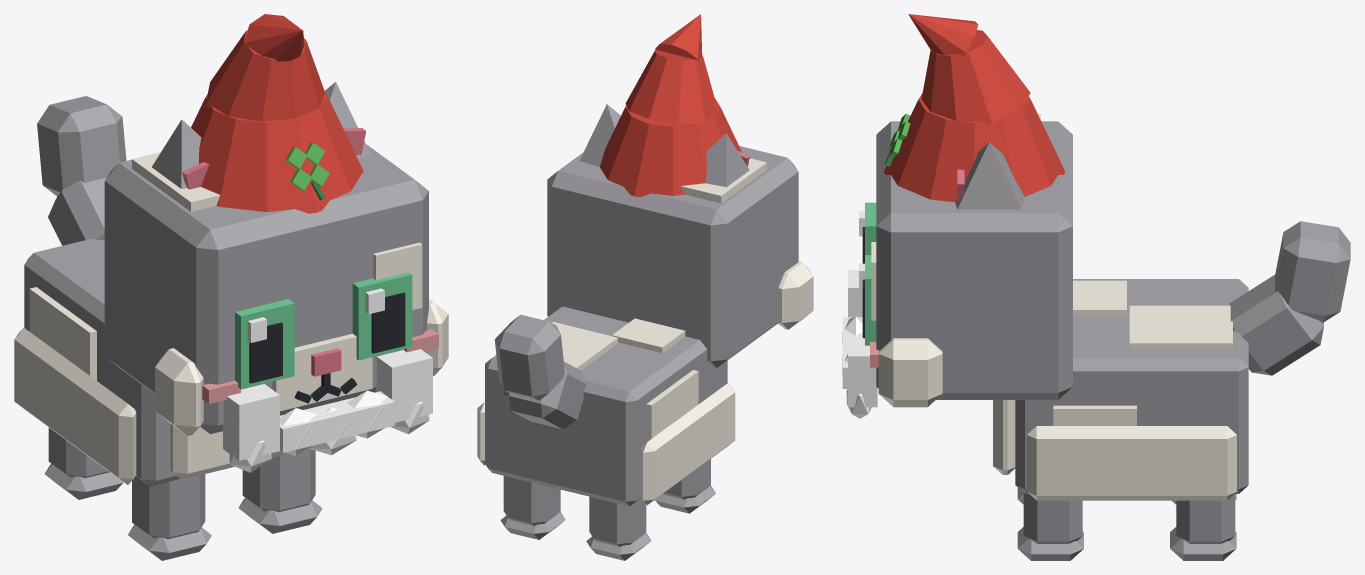
The model's file is CatCafe_Cat_Gnome.glb.
3 views of the same model, side by side, from view 1: azimuth 30°, elevation 25°; view 2: azimuth 150°, elevation 25°; view 3: azimuth 270°, elevation 25° (orthographic). The views are drawn at different scales.
Visible parts, largest first — view 1: CatCafe_Cat_Gnome_Head, CatCafe_Cat_Gnome_Body, CatCafe_Cat_Gnome_Prop, CatCafe_Cat_Gnome_Prop2, CatCafe_Cat_Gnome_Tail, CatCafe_Cat_Gnome_LegF2, CatCafe_Cat_Gnome_LegF1, CatCafe_Cat_Gnome_Eye2, CatCafe_Cat_Gnome_Eye1, CatCafe_Cat_Gnome_LegB2, CatCafe_Cat_Gnome_EarR, CatCafe_Cat_Gnome_EarL; view 2: CatCafe_Cat_Gnome_Head, CatCafe_Cat_Gnome_Body, CatCafe_Cat_Gnome_Prop, CatCafe_Cat_Gnome_Tail, CatCafe_Cat_Gnome_LegB2, CatCafe_Cat_Gnome_LegB1, CatCafe_Cat_Gnome_LegF2, CatCafe_Cat_Gnome_EarR, CatCafe_Cat_Gnome_EarL; view 3: CatCafe_Cat_Gnome_Body, CatCafe_Cat_Gnome_Head, CatCafe_Cat_Gnome_Prop, CatCafe_Cat_Gnome_Tail, CatCafe_Cat_Gnome_LegF1, CatCafe_Cat_Gnome_LegB1, CatCafe_Cat_Gnome_Prop2, CatCafe_Cat_Gnome_EarL, CatCafe_Cat_Gnome_Eye1, CatCafe_Cat_Gnome_Eye2.
Boxes of the visible parts, <box> form: CatCafe_Cat_Gnome_Head: <box>104,144,448,435</box>; CatCafe_Cat_Gnome_Body: <box>14,238,308,486</box>; CatCafe_Cat_Gnome_Prop: <box>191,14,363,213</box>; CatCafe_Cat_Gnome_Prop2: <box>223,349,432,472</box>; CatCafe_Cat_Gnome_Tail: <box>37,96,126,245</box>; CatCafe_Cat_Gnome_LegF2: <box>128,474,211,560</box>; CatCafe_Cat_Gnome_LegF1: <box>238,449,322,533</box>; CatCafe_Cat_Gnome_Eye2: <box>235,299,294,388</box>; CatCafe_Cat_Gnome_Eye1: <box>352,272,412,360</box>; CatCafe_Cat_Gnome_LegB2: <box>44,427,123,499</box>; CatCafe_Cat_Gnome_EarR: <box>152,119,209,189</box>; CatCafe_Cat_Gnome_EarL: <box>324,82,370,158</box>; CatCafe_Cat_Gnome_Head: <box>547,146,813,367</box>; CatCafe_Cat_Gnome_Body: <box>477,306,735,506</box>; CatCafe_Cat_Gnome_Prop: <box>600,14,741,197</box>; CatCafe_Cat_Gnome_Tail: <box>494,314,586,429</box>; CatCafe_Cat_Gnome_LegB2: <box>586,496,651,560</box>; CatCafe_Cat_Gnome_LegB1: <box>500,476,565,539</box>; CatCafe_Cat_Gnome_LegF2: <box>655,459,715,513</box>; CatCafe_Cat_Gnome_EarR: <box>705,133,749,186</box>; CatCafe_Cat_Gnome_EarL: <box>579,104,620,166</box>; CatCafe_Cat_Gnome_Body: <box>993,279,1248,500</box>; CatCafe_Cat_Gnome_Head: <box>863,114,1072,407</box>; CatCafe_Cat_Gnome_Prop: <box>884,14,1065,202</box>; CatCafe_Cat_Gnome_Tail: <box>1229,221,1350,375</box>; CatCafe_Cat_Gnome_LegF1: <box>1017,493,1083,560</box>; CatCafe_Cat_Gnome_LegB1: <box>1170,494,1236,560</box>; CatCafe_Cat_Gnome_Prop2: <box>842,270,877,418</box>; CatCafe_Cat_Gnome_EarL: <box>955,142,1024,209</box>; CatCafe_Cat_Gnome_Eye1: <box>859,255,876,345</box>; CatCafe_Cat_Gnome_Eye2: <box>859,202,876,263</box>.
Bounding box in the file's own units: 1.18 × 2.31 × 2.07.
Materials: 1 (1 with a texture image).
